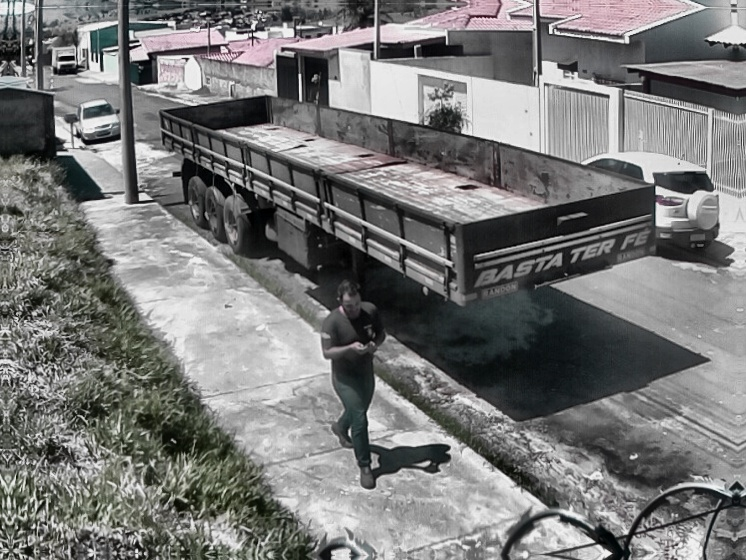person: (318, 277, 389, 494)
